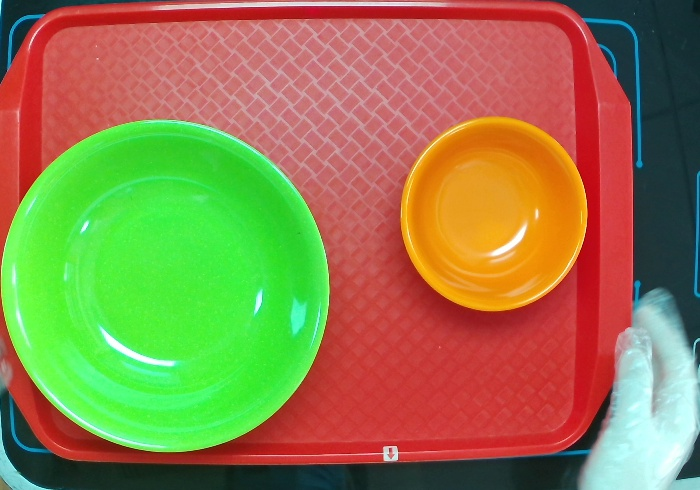YKMZ-Ju_Se_Yuan_Wan: (398, 116, 589, 314)
YKMZ-Lv_Se_Tang_Wan: (1, 118, 332, 456)
